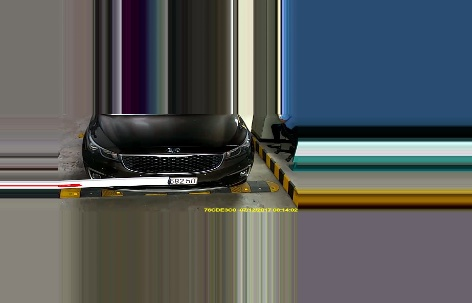plate: (156, 176, 197, 185)
